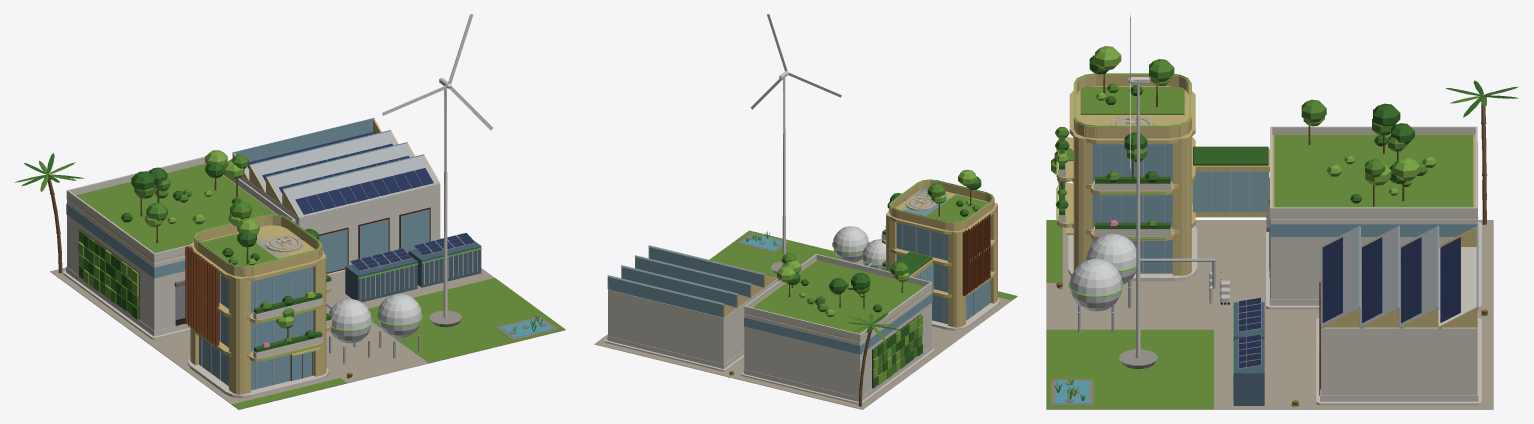
Rendered from factory_4.glb.
3 views of the same model, side by side, from view 1: azimuth 30°, elevation 25°; view 2: azimuth 150°, elevation 25°; view 3: azimuth 270°, elevation 25° (orthographic). The views are drawn at different scales.
Parts seen in each view (by area): view 1: body, windows; view 2: body, windows; view 3: body, windows.
Part boxes in pixels (x1,y1,x2,y2): body: [14, 14, 565, 409]; windows: [175, 214, 481, 360]; body: [594, 14, 1017, 409]; windows: [832, 179, 993, 265]; body: [1046, 14, 1518, 409]; windows: [1056, 73, 1269, 377].
Size of the model in its own units: 35.53 by 28.72 by 33.74.
